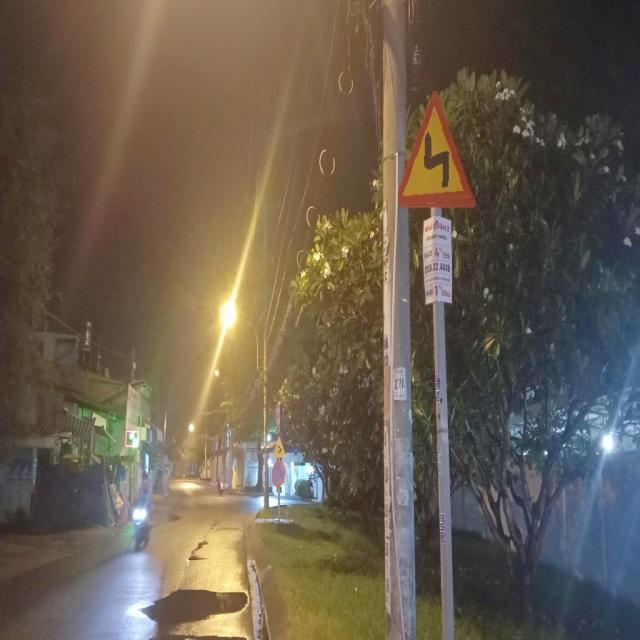cam_dung_xe_va_do_xe: (272, 460, 288, 487)
cho_ngoat_nguy_hiem_ben_trai: (272, 435, 286, 457)
cho_ngoat_nguy_hiem_lien_tiep: (398, 91, 477, 208)
